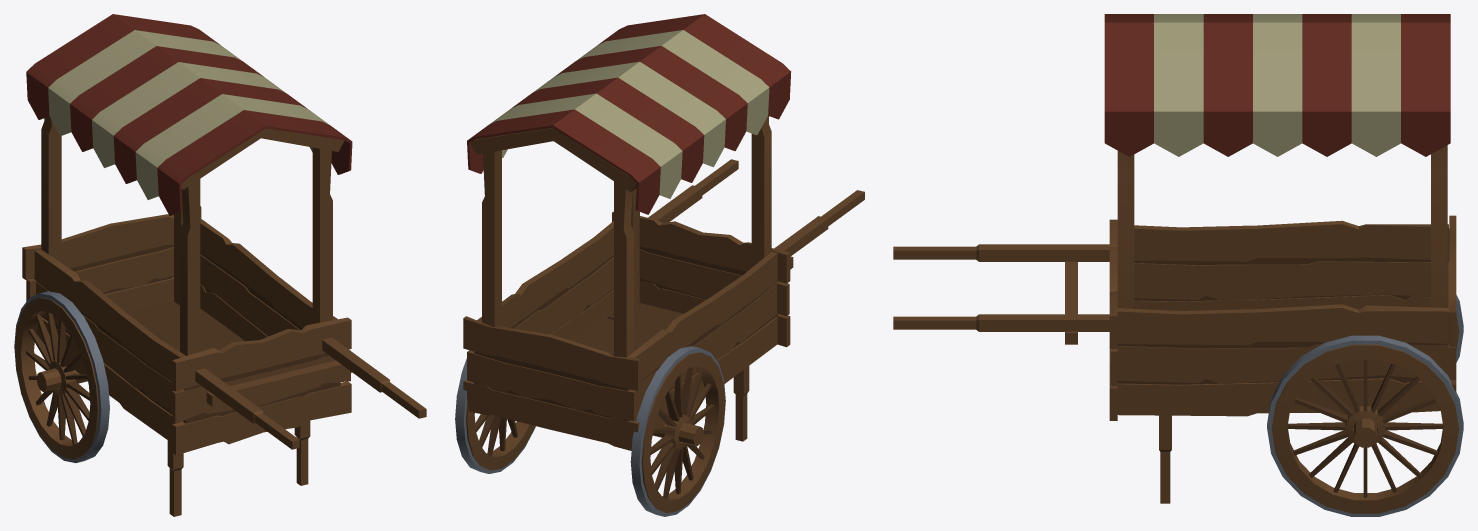
The model's file is prop_gerobak.fbx.
3 views of the same model, side by side, from view 1: azimuth 30°, elevation 25°; view 2: azimuth 150°, elevation 25°; view 3: azimuth 270°, elevation 25° (orthographic). The views are drawn at different scales.
Parts seen in each view (by area): view 1: prop_gerobak; view 2: prop_gerobak; view 3: prop_gerobak.
Part boxes in pixels (x1,y1,x2,y2): prop_gerobak: (14, 14, 426, 516); prop_gerobak: (455, 14, 864, 516); prop_gerobak: (893, 14, 1463, 516).
Size of the model in its own units: 1.2 by 2.06 by 2.4.
Materials: 1 (1 with a texture image).
